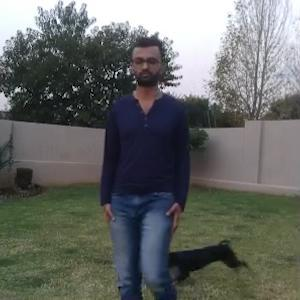follow: (99, 35, 189, 298)
